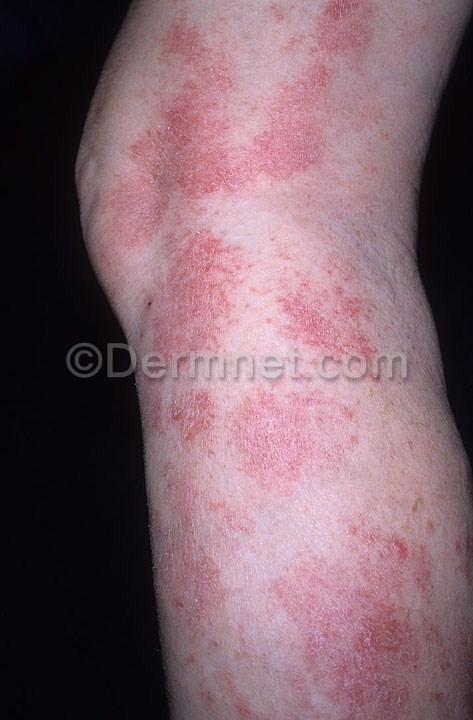Eczema: (61, 0, 359, 238), (140, 494, 444, 720), (147, 245, 388, 488)
